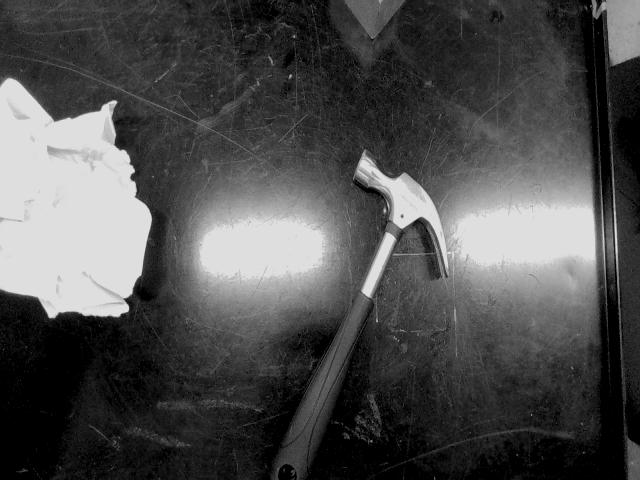Hammer: (270, 150, 449, 479)
